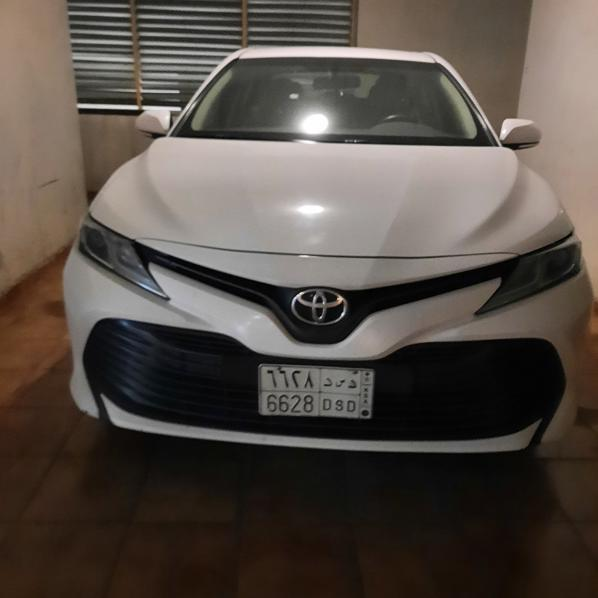numberplate: (256, 362, 374, 421)
